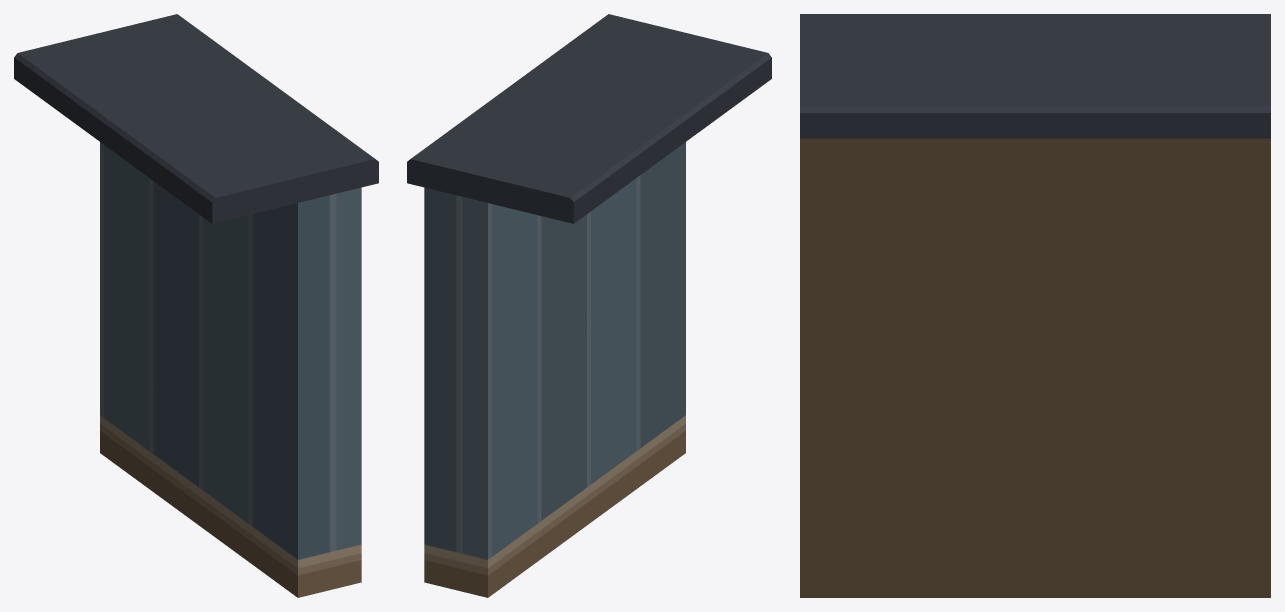
The model's file is SM_kitchenBar_01.glb.
3 views of the same model, side by side, from view 1: azimuth 30°, elevation 25°; view 2: azimuth 150°, elevation 25°; view 3: azimuth 270°, elevation 25° (orthographic). The views are drawn at different scales.
Parts seen in each view (by area): view 1: SM_kitchenBar_01; view 2: SM_kitchenBar_01; view 3: SM_kitchenBar_01.
Boxes of the visible parts, <box> form: SM_kitchenBar_01: <box>14,14,378,597</box>; SM_kitchenBar_01: <box>407,14,771,597</box>; SM_kitchenBar_01: <box>800,14,1270,597</box>.
Bounding box in the file's own units: 0.4858 × 1.17 × 1.
Materials: 2 (2 with a texture image).
